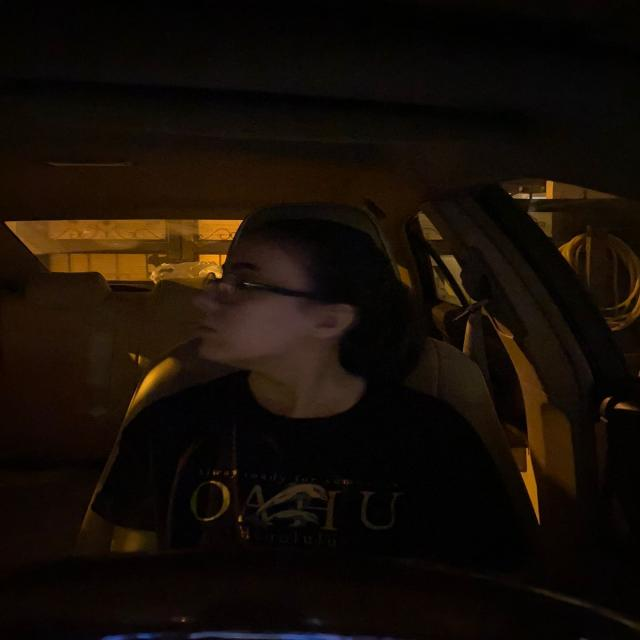LeftRight: (180, 226, 392, 367)
